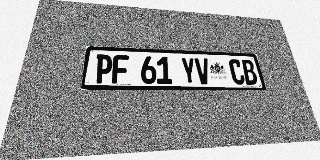1: (156, 56, 172, 84)
6: (141, 56, 157, 84)
B: (241, 59, 259, 85)
C: (228, 59, 246, 85)
F: (112, 55, 129, 84)
P: (94, 54, 113, 84)
V: (194, 58, 211, 84)
Y: (180, 57, 197, 84)
